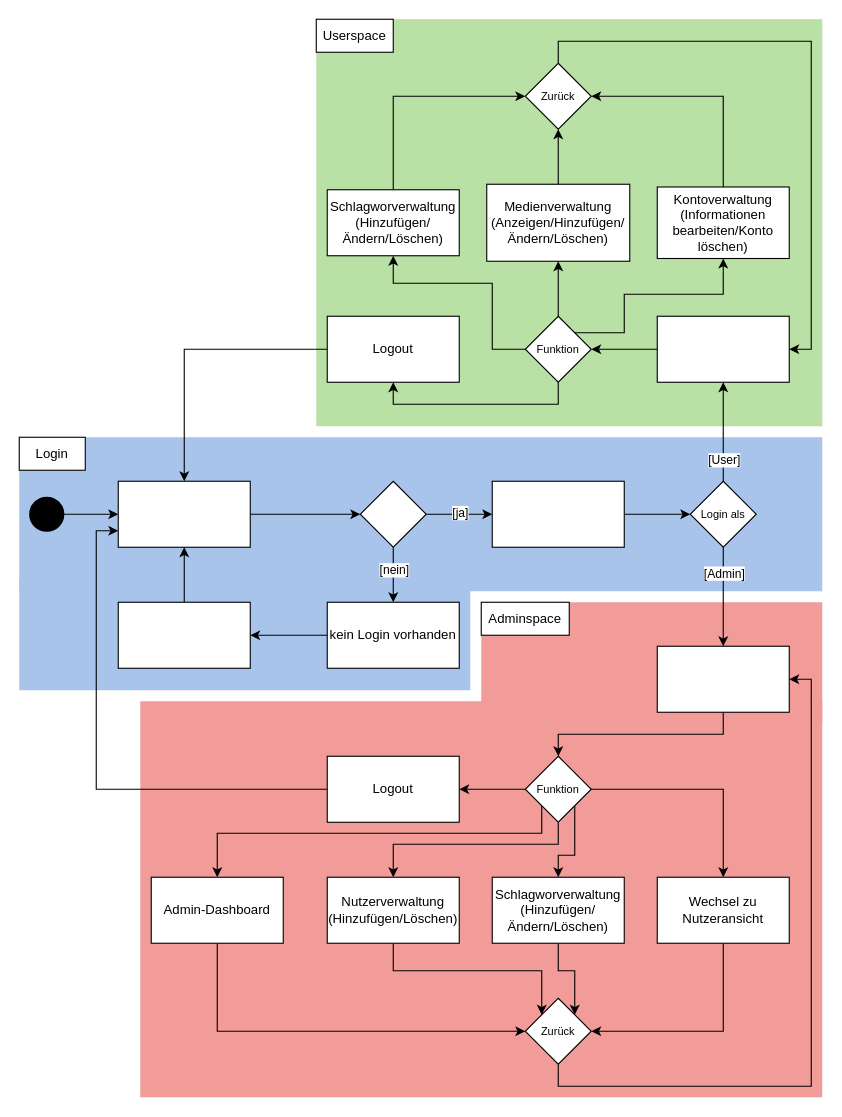
The diagram is 842 pixels wide and 1117 high, and some of its shapes have lost their labels. Here are the shapes that lost their labels. From the top down, the centre of each, then its label:
point 722,348: User-Landingpage
point 183,513: User auf Login-Seite
point 392,513: registriert?
point 557,513: Login vorhanden
point 183,634: Selbstregistrierung
point 722,678: Admin-Landingpage
